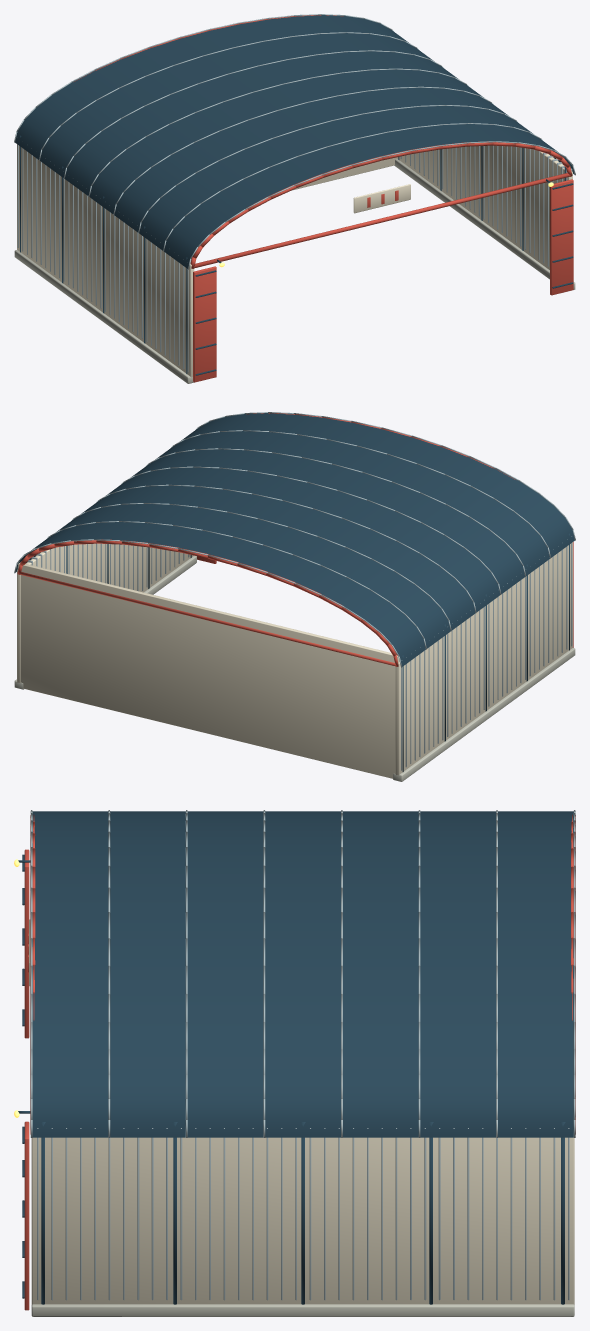
Rendered from hangar.glb.
3 renders of one model, top to bottom at view 1: azimuth 30°, elevation 25°; view 2: azimuth 150°, elevation 25°; view 3: azimuth 270°, elevation 25°, orthographic. The views are drawn at different scales.
Parts seen in each view (by area): view 1: hangar_Navy, hangar_Ivory, hangar_Aluminium, hangar_Paint, hangar_Concrete; view 2: hangar_Navy, hangar_Ivory, hangar_Aluminium, hangar_Paint, hangar_Concrete; view 3: hangar_Navy, hangar_Ivory, hangar_Aluminium, hangar_Concrete, hangar_Paint.
Part boxes in pixels (left/top/right/bottom): hangar_Navy: left=15, top=15, right=574, bottom=375; hangar_Ivory: left=17, top=144, right=572, bottom=379; hangar_Aluminium: left=14, top=14, right=575, bottom=372; hangar_Paint: left=74, top=15, right=573, bottom=382; hangar_Concrete: left=14, top=159, right=575, bottom=383; hangar_Navy: left=15, top=413, right=574, bottom=771; hangar_Ivory: left=17, top=542, right=572, bottom=778; hangar_Aluminium: left=14, top=412, right=575, bottom=770; hangar_Paint: left=17, top=413, right=573, bottom=666; hangar_Concrete: left=14, top=555, right=575, bottom=781; hangar_Navy: left=18, top=811, right=573, bottom=1304; hangar_Ivory: left=29, top=919, right=574, bottom=1304; hangar_Aluminium: left=30, top=810, right=575, bottom=1300; hangar_Concrete: left=31, top=1304, right=574, bottom=1316; hangar_Paint: left=24, top=814, right=575, bottom=1310.
Bounding box in the file's own units: 18.05 × 8.03 × 14.49.
